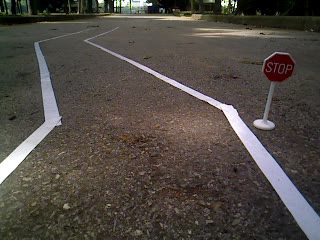Stop: (261, 49, 296, 84)
